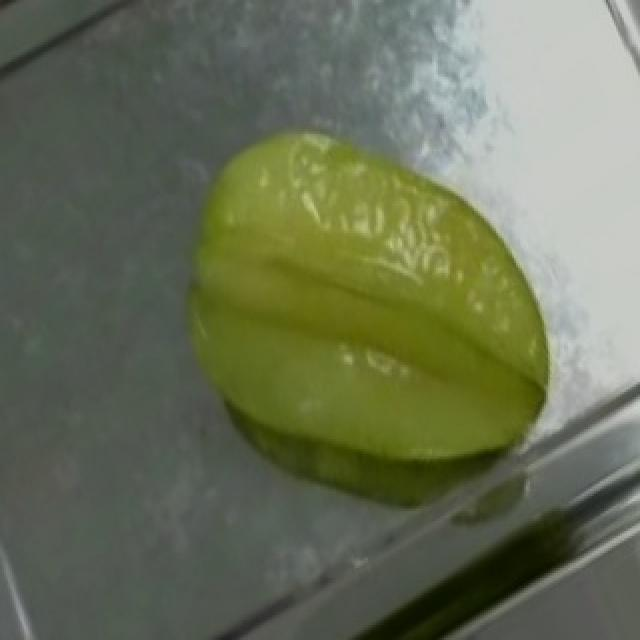fruit: (128, 77, 580, 543)
